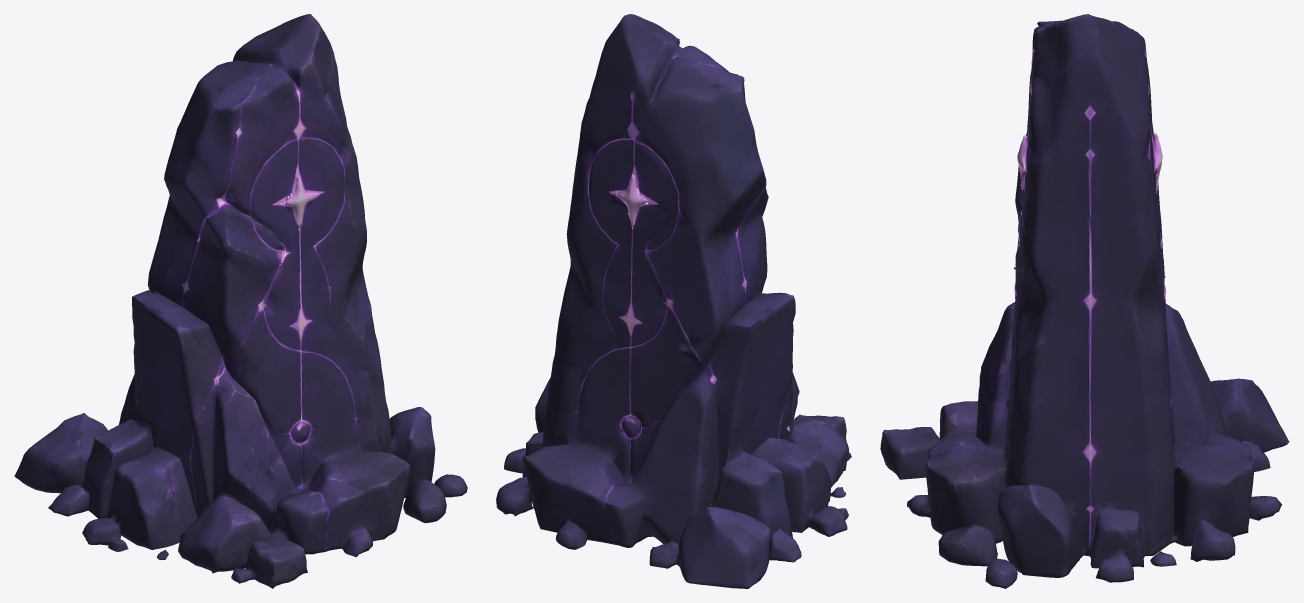
File: star_monolith.glb
3 renders of one model, left to right at view 1: azimuth 30°, elevation 25°; view 2: azimuth 150°, elevation 25°; view 3: azimuth 270°, elevation 25°, orthographic. The views are drawn at different scales.
Parts seen in each view (by area): view 1: tripo_node_fb398c20; view 2: tripo_node_fb398c20; view 3: tripo_node_fb398c20.
Part boxes in pixels (box(x1,y1,x2,y2)): tripo_node_fb398c20: box(14, 14, 467, 588); tripo_node_fb398c20: box(496, 14, 851, 588); tripo_node_fb398c20: box(880, 14, 1289, 588).
Bounding box in the file's own units: 75.74 × 99.75 × 72.15.
1 material, 1 textured.
